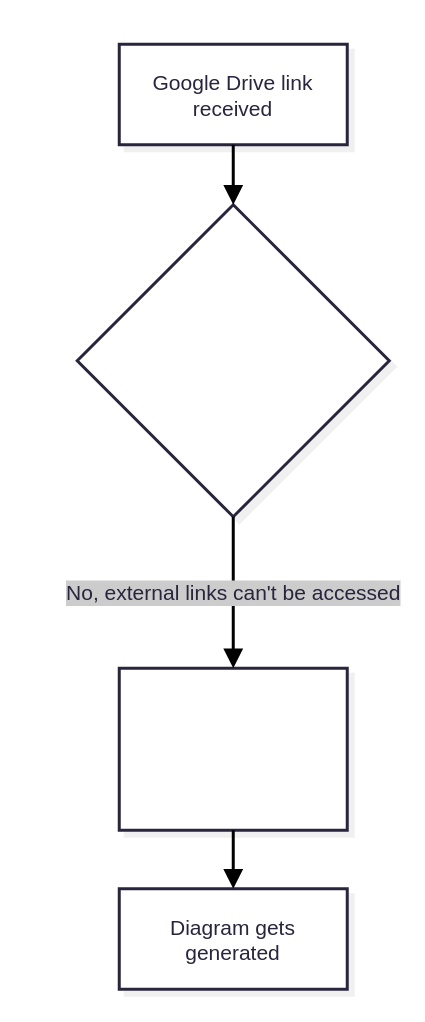
This 425x1022 diagram has some shape labels left out. The centre of each missing label's shape, as x and y in pixels:
"Can the file be opened?" goes at [235,363].
"Paste the content or describe the diagram" goes at [235,751].
